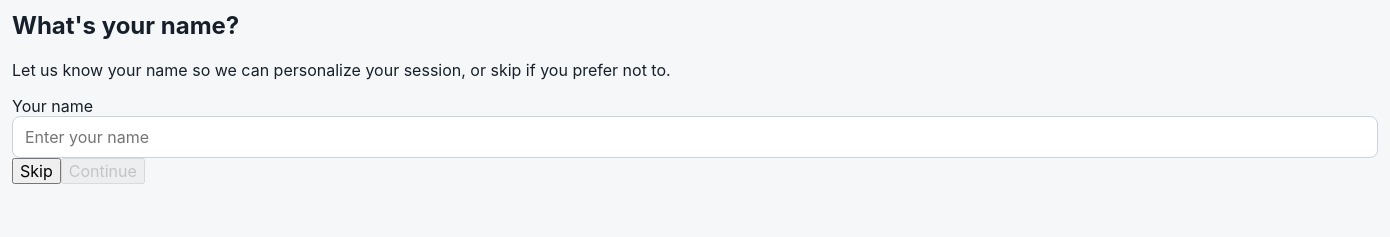
skips name entry and continues without personalization
What coordinates should you click on to do the following:
click the button "Skip"
I would click on:
 (36, 171)
Its box is [12,158,61,184].
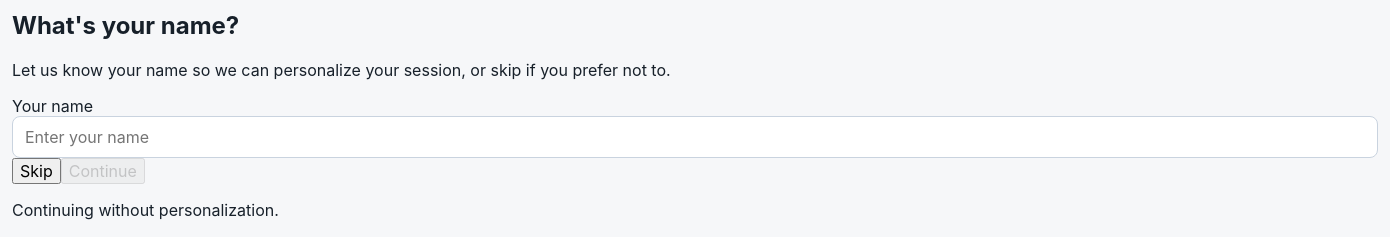
Result: the text "Continuing without personalization." is shown at [12,200,279,220]
